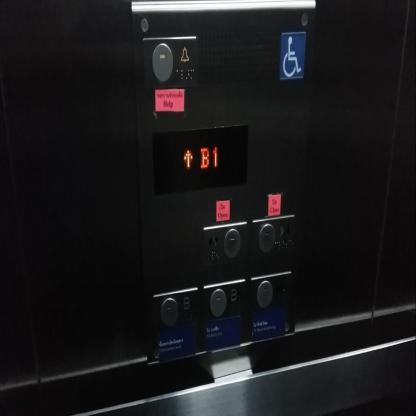B: (150, 285, 199, 335), (201, 276, 247, 324)
CH: (278, 30, 306, 81)
alarm: (139, 34, 198, 91)
blur: (249, 269, 293, 318)
close: (250, 212, 296, 258)
led: (152, 120, 250, 198)
open: (201, 219, 248, 269)
